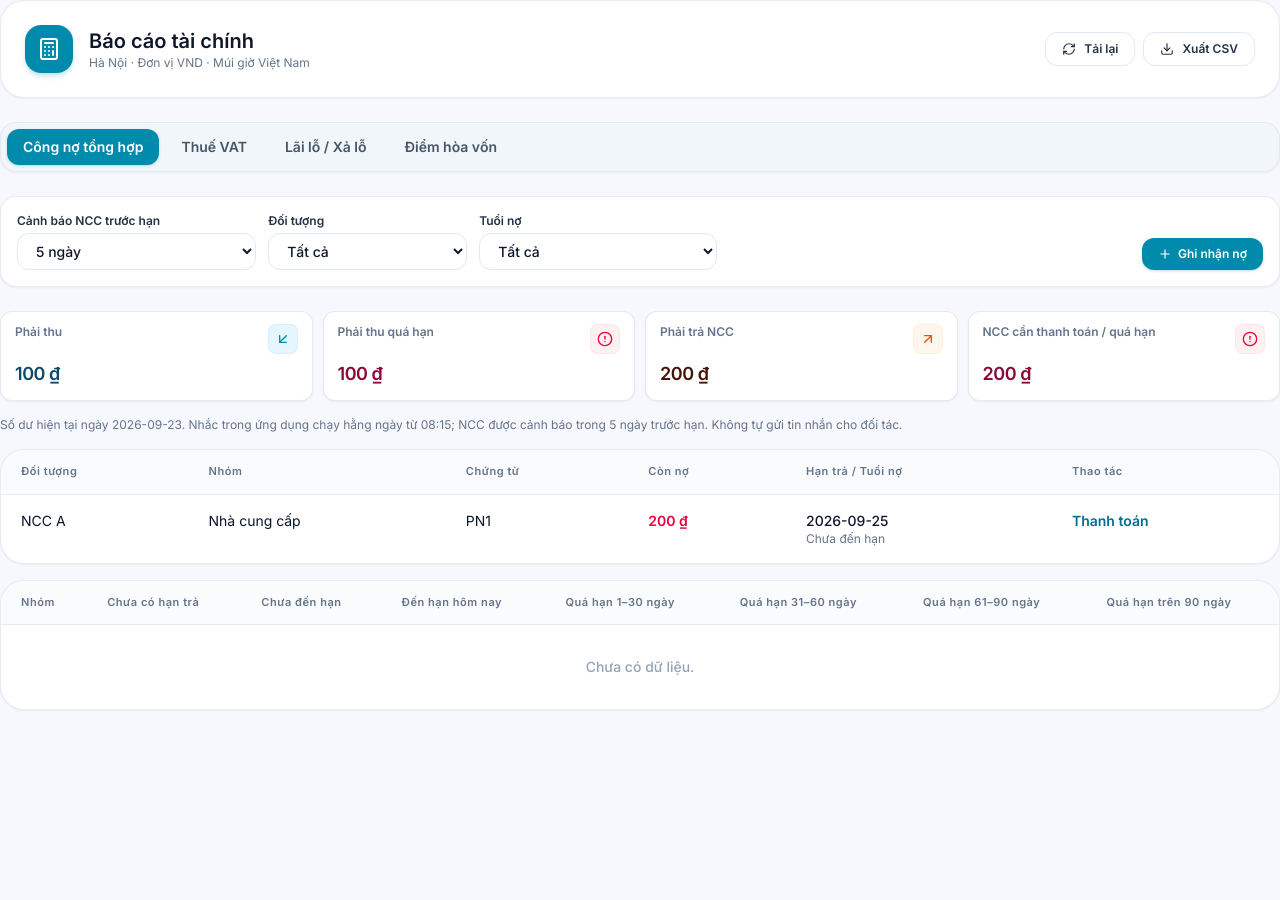
Test case: records payment in a dialog with a stable key and expected version
Click the button "Thanh toán": coordinates (1110, 521) top-left (1072, 511), bottom-right (1149, 531)
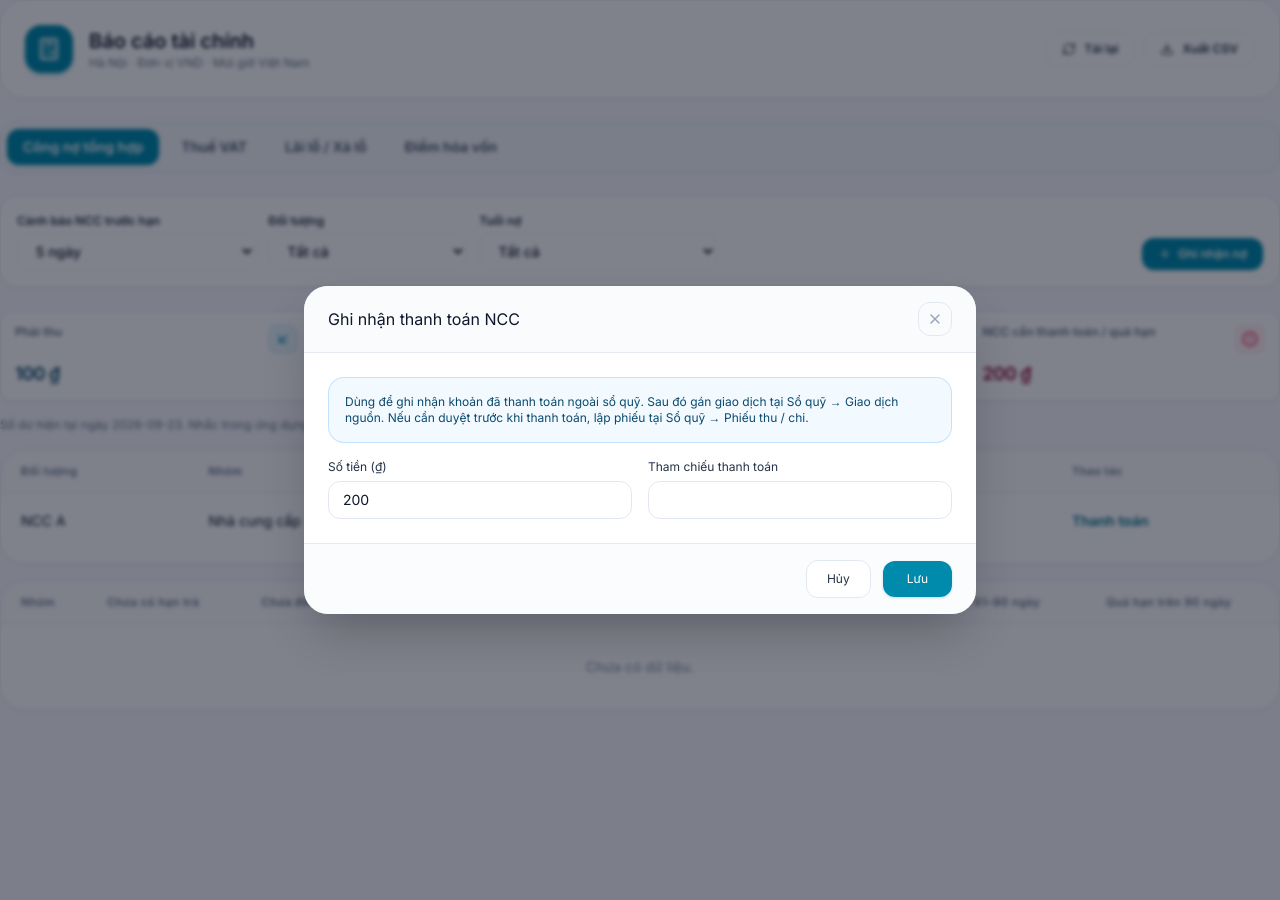
Result: the dialog "Ghi nhận thanh toán NCC" is shown at top-left (304, 286), bottom-right (976, 614)
Click the button "Lưu": coordinates (917, 579) top-left (883, 561), bottom-right (952, 597)
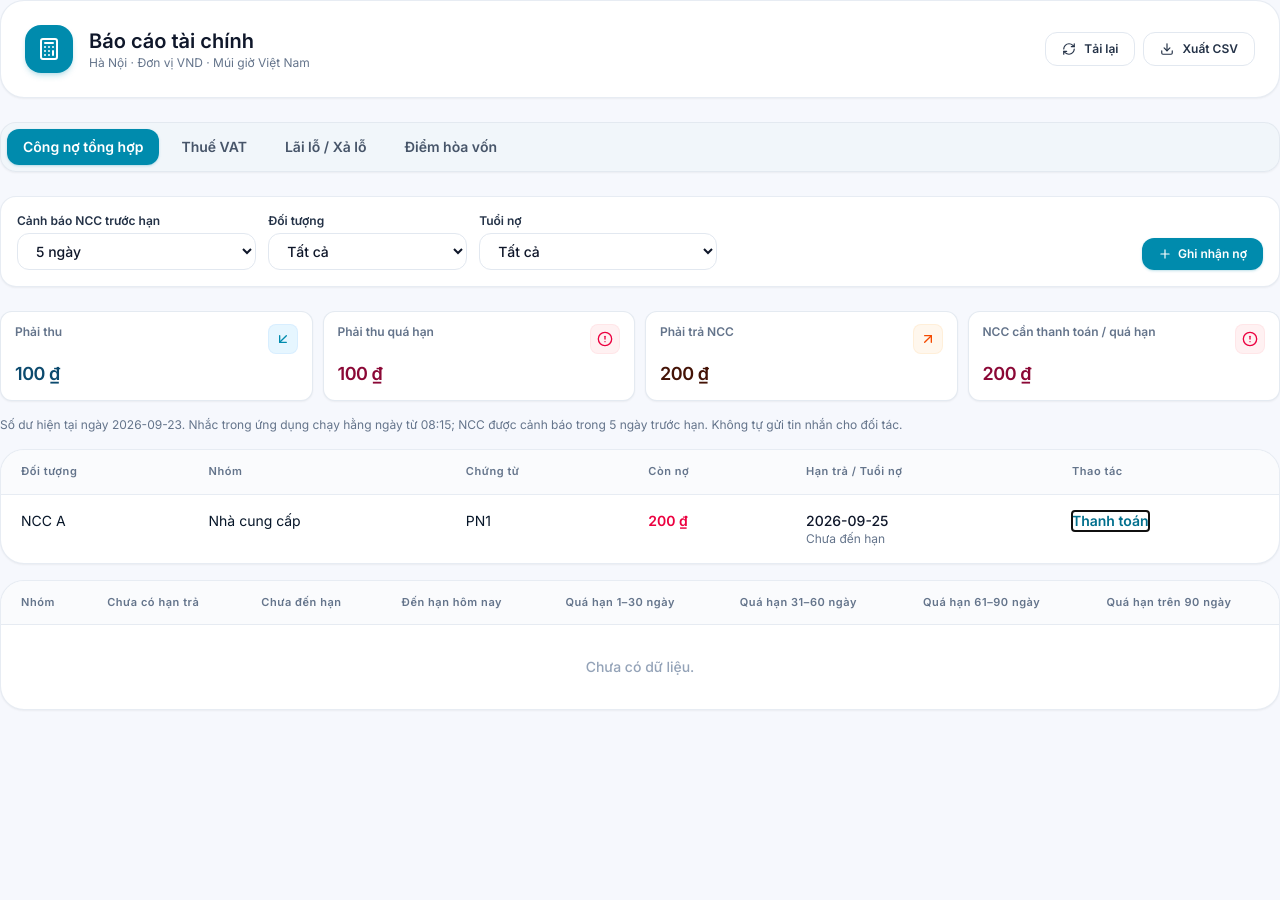
Result: the dialog is gone
